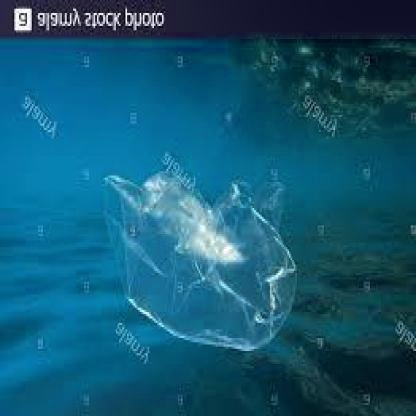pbag: (100, 171, 300, 353)
